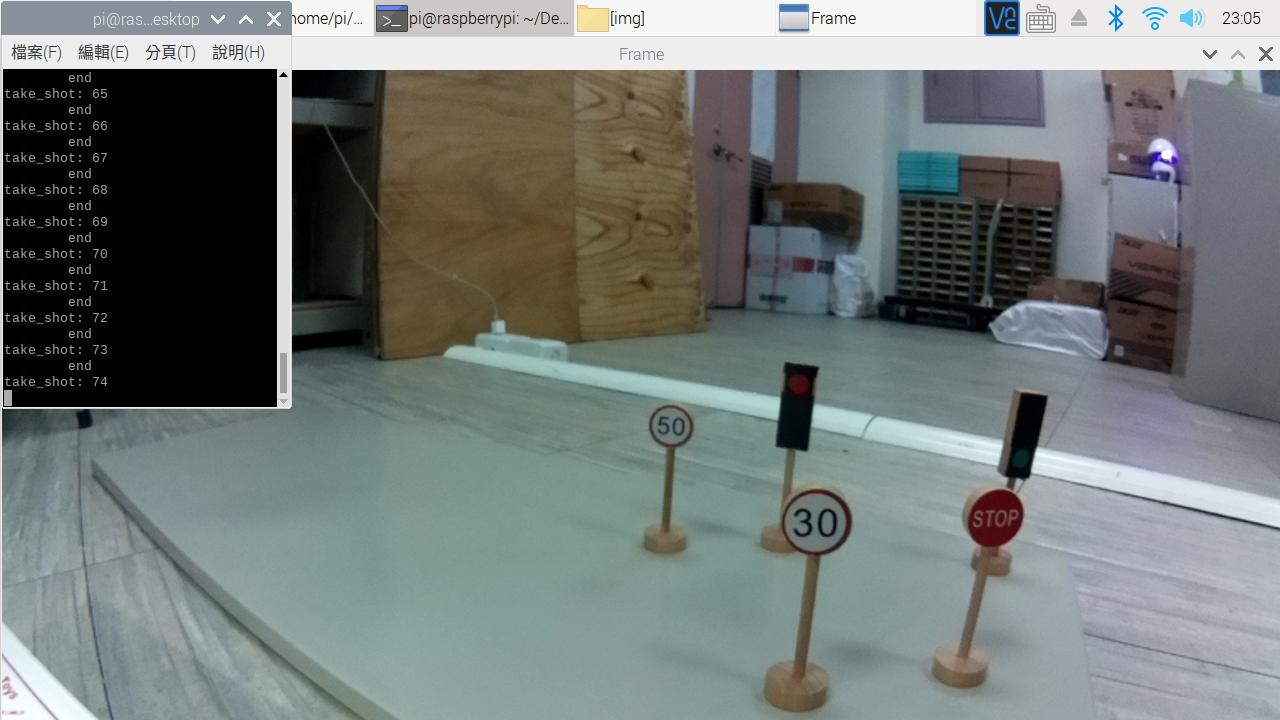Green: (996, 389, 1053, 482)
Red: (772, 357, 826, 457)
Speed30: (782, 489, 855, 558)
Speed50: (650, 398, 703, 456)
Stop: (959, 487, 1032, 556)
